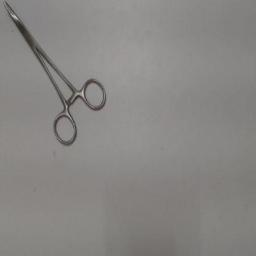Crile Artery Forceps: (2, 0, 108, 150)
